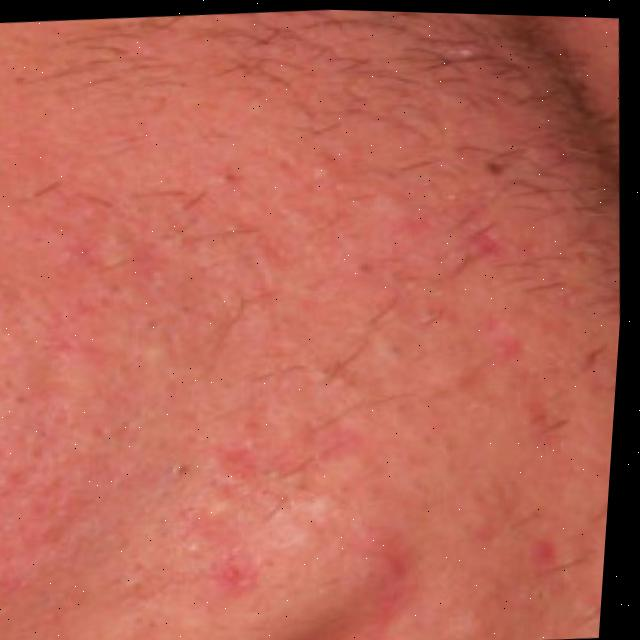Acne: (0, 55, 426, 640)
